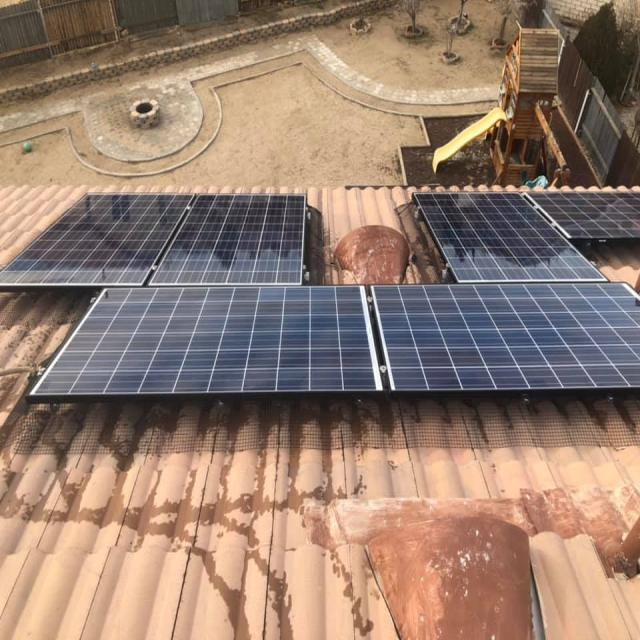clean-solar-panel: (30, 282, 640, 400), (1, 193, 306, 287), (414, 193, 605, 283)
